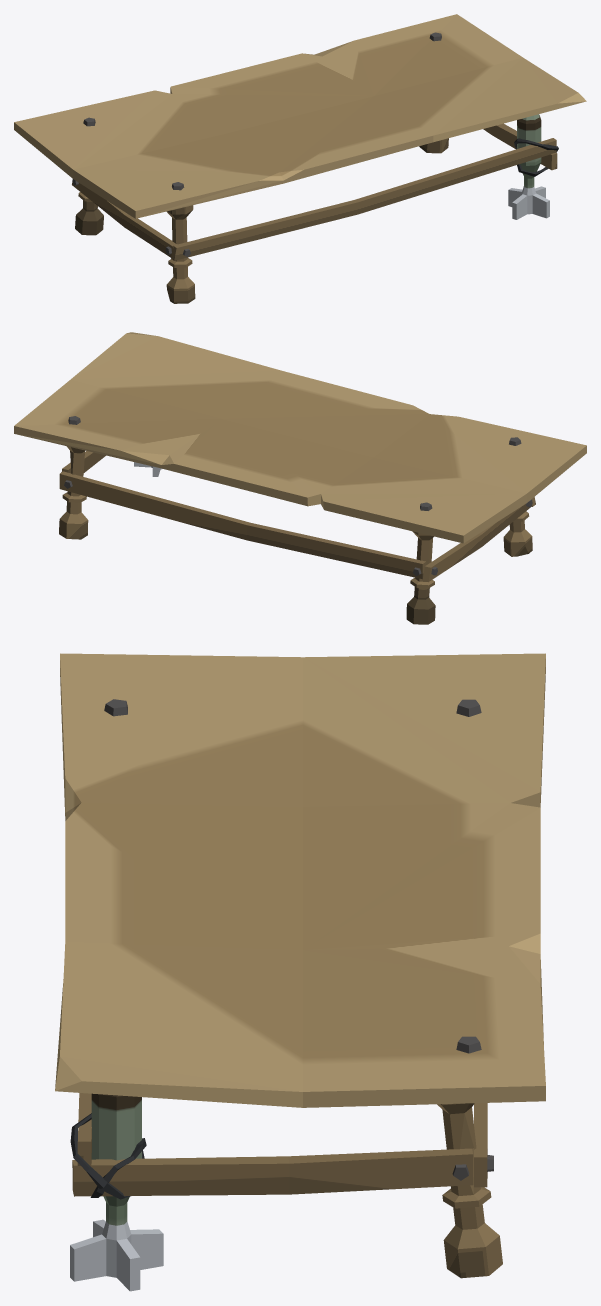
File: SM_Prop_Makeshift_Table_03.fbx
3 views of the same model, one above another, from view 1: azimuth 30°, elevation 25°; view 2: azimuth 150°, elevation 25°; view 3: azimuth 270°, elevation 25° (orthographic). The views are drawn at different scales.
Parts seen in each view (by area): view 1: SM_Prop_Makeshift_Table_03; view 2: SM_Prop_Makeshift_Table_03; view 3: SM_Prop_Makeshift_Table_03.
Boxes of the visible parts, x1=… form: SM_Prop_Makeshift_Table_03: x1=14, y1=14, x2=586, y2=303; SM_Prop_Makeshift_Table_03: x1=14, y1=332, x2=586, y2=624; SM_Prop_Makeshift_Table_03: x1=55, y1=653, x2=545, y2=1291.
Size of the model in its own units: 357 by 87.74 by 168.
